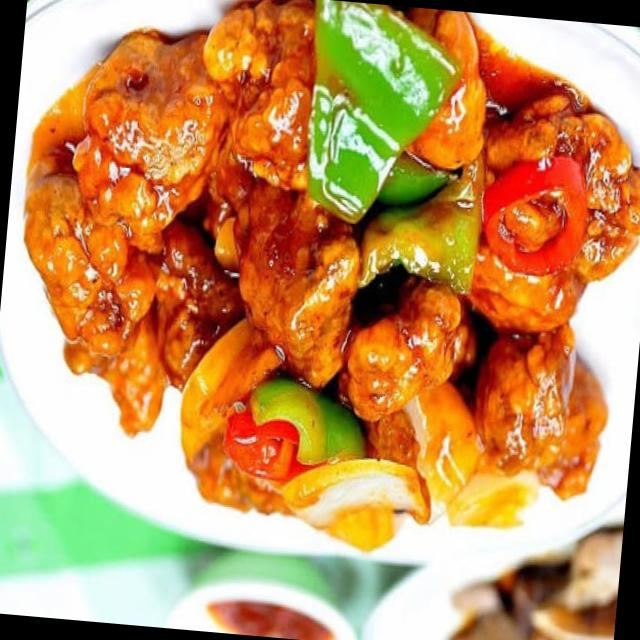suon xao: (25, 1, 640, 552)
